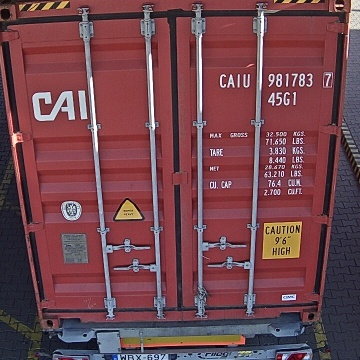serial_id: (220, 72, 332, 87)
